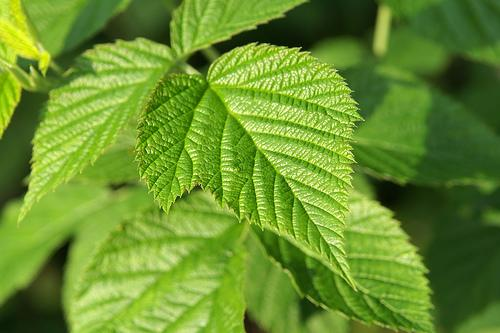Raspberry leaf: (139, 41, 359, 275)
